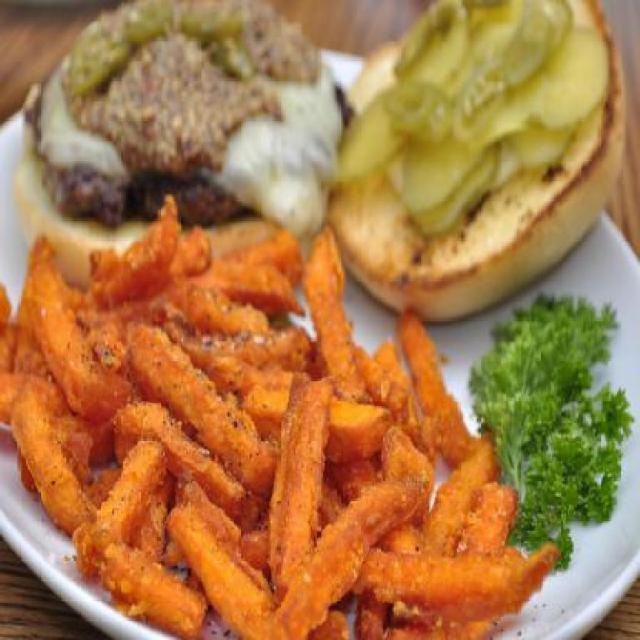Potato: (0, 187, 561, 640), (0, 364, 108, 534)
